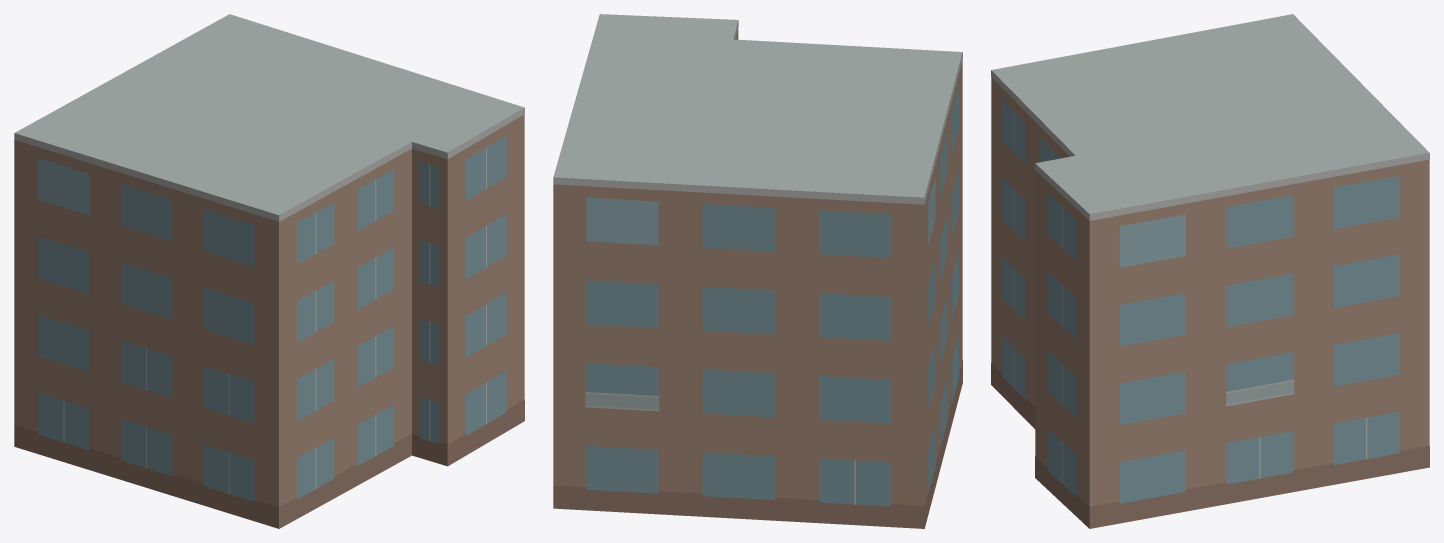
The model's file is survey-upis-32858790.glb.
3 renders of one model, left to right at view 1: azimuth 30°, elevation 25°; view 2: azimuth 150°, elevation 25°; view 3: azimuth 270°, elevation 25°, orthographic. The views are drawn at different scales.
Parts seen in each view (by area): view 1: survey-upis-32858790.tmp; view 2: survey-upis-32858790.tmp; view 3: survey-upis-32858790.tmp.
Boxes of the visible parts, left/top/right/bottom form: survey-upis-32858790.tmp: left=14, top=14, right=524, bottom=528; survey-upis-32858790.tmp: left=553, top=14, right=962, bottom=528; survey-upis-32858790.tmp: left=991, top=14, right=1429, bottom=528.
Bounding box in the file's own units: 15.71 × 11.5 × 14.54.
